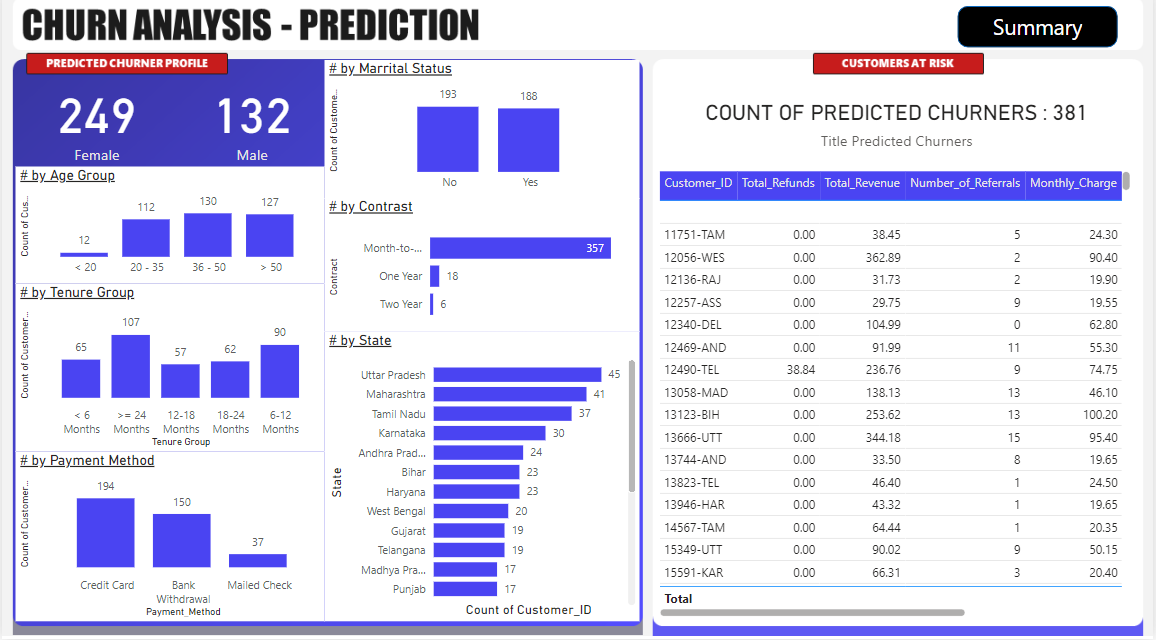

This screenshot's page, from the dashboard's own definition file:
{"tool":"powerbi","page":{"name":"Churn Prediction","canvas":[1280,720],"ordinal":2},"visuals":[{"type":"tableEx","fields":{"Values":["Predicted.Customer_ID","Predicted.Total_Refunds","Predicted.Total_Revenue","Predicted.Number_of_Referrals","Predicted.Monthly_Charge","tbl_measures.Title Predicted Churners"]},"box":[725,195,533.3,505],"z":0},{"type":"card","fields":{"Values":["tbl_measures.Title Predicted Churners"]},"box":[726,94,534,102],"z":1000},{"type":"card","fields":{"Values":["tbl_measures.Count Predicted Churner"]},"box":[15,90,180,105],"z":1001},{"type":"card","fields":{"Values":["tbl_measures.Count Predicted Churner"]},"box":[195,90,165,105],"z":1002},{"type":"clusteredColumnChart","title":"# by Age Group","fields":{"Category":["mapping_agegrp.Age Group"],"Y":["CountNonNull(Predicted.Customer_ID)"]},"box":[15,195,343.3,130],"z":1003},{"type":"clusteredColumnChart","title":"# by Marrital Status","fields":{"Y":["CountNonNull(Predicted.Customer_ID)"],"Category":["Predicted.Married"]},"box":[358,76,350,154],"z":1004},{"type":"clusteredColumnChart","title":"# by Tenure Group","fields":{"Y":["CountNonNull(Predicted.Customer_ID)"],"Category":["mapping_tenuregrp.Tenure Group"]},"box":[15,325,343.3,186.7],"z":1005},{"type":"clusteredColumnChart","title":"# by Payment Method","fields":{"Y":["CountNonNull(Predicted.Customer_ID)"],"Category":["prod_Churn.Payment_Method"]},"box":[15,511.7,343.3,188.3],"z":1006},{"type":"clusteredBarChart","title":"# by Contrast","fields":{"Y":["CountNonNull(Predicted.Customer_ID)"],"Category":["Predicted.Contract"]},"box":[358.3,230,350,148.3],"z":1007},{"type":"clusteredBarChart","title":"# by State","fields":{"Y":["CountNonNull(Predicted.Customer_ID)"],"Category":["Predicted.State"]},"box":[358.3,378.3,350,321.7],"z":1008},{"type":"shape","box":[1062,16,178,46],"z":1009}]}

Visuals, with their boxes in screenshot pixels (x1, y1, x2, y2), scaled from the page's 1280x720 canvas onto the 1156x640 screenshot:
tableEx - Predicted.Customer_ID x Predicted.Total_Refunds: [655, 173, 1136, 622]
card - tbl_measures.Title Predicted Churners: [656, 84, 1138, 174]
card - tbl_measures.Count Predicted Churner: [14, 80, 176, 173]
card - tbl_measures.Count Predicted Churner: [176, 80, 325, 173]
"# by Age Group" clusteredColumnChart: [14, 173, 324, 289]
"# by Marrital Status" clusteredColumnChart: [323, 68, 639, 204]
"# by Tenure Group" clusteredColumnChart: [14, 289, 324, 455]
"# by Payment Method" clusteredColumnChart: [14, 455, 324, 622]
"# by Contrast" clusteredBarChart: [324, 204, 640, 336]
"# by State" clusteredBarChart: [324, 336, 640, 622]
shape: [959, 14, 1120, 55]
